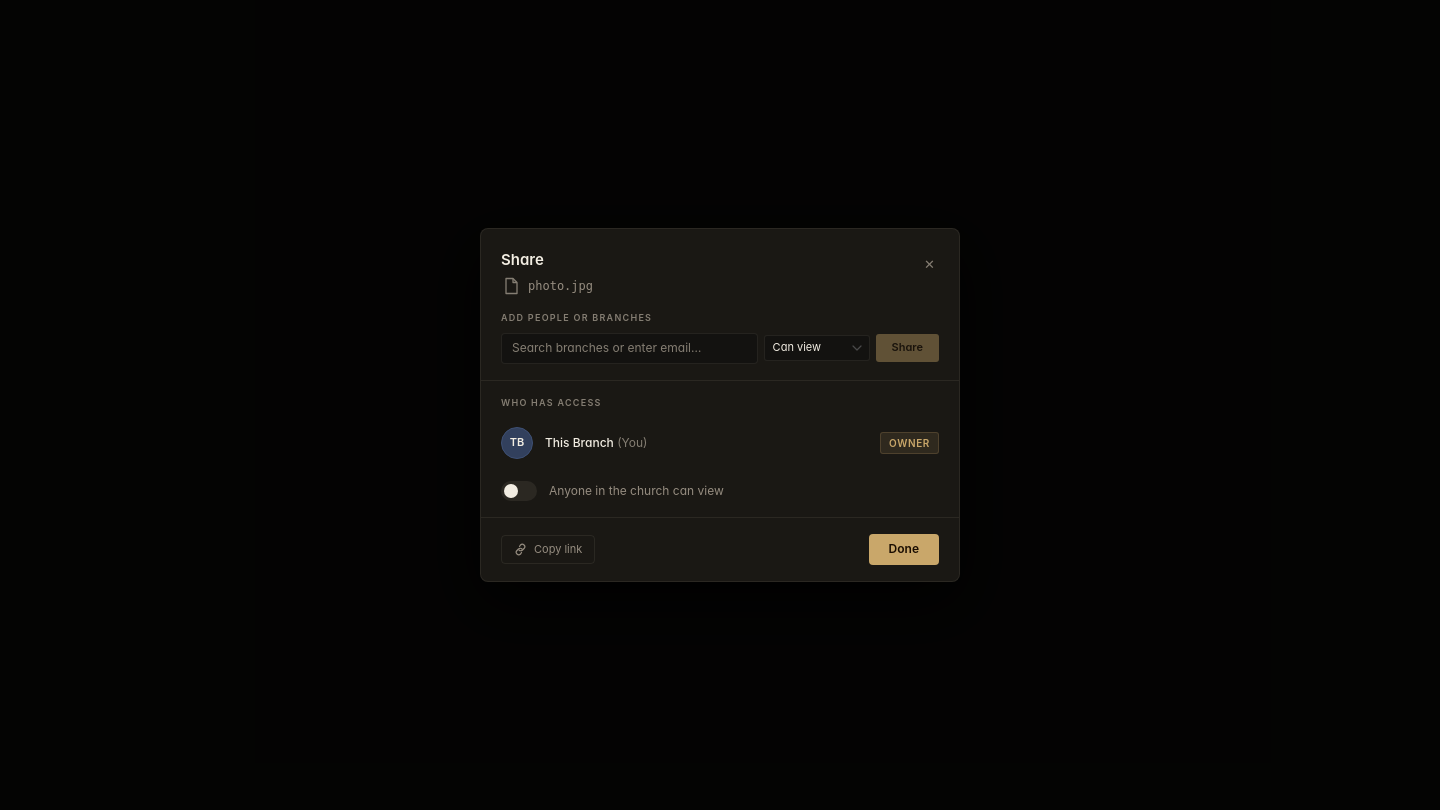
Test: ShareDialog › enables Share button when search query is entered
In the field with placeholder "Search branches or enter email…": (629,348) [501,333,758,364], type "East Branch"
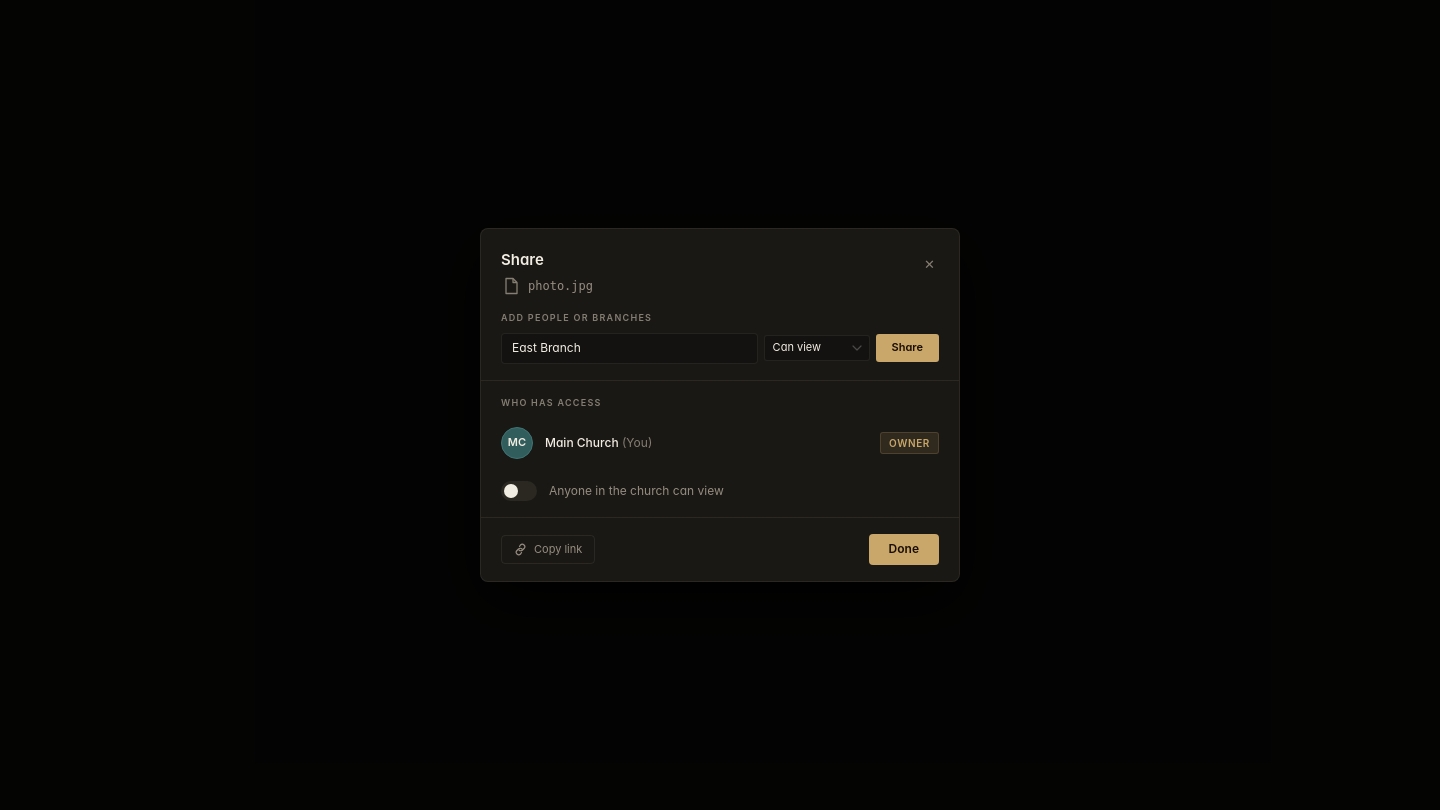
Result: the button with test id "share-add-btn" is enabled at [876,334,939,362]
